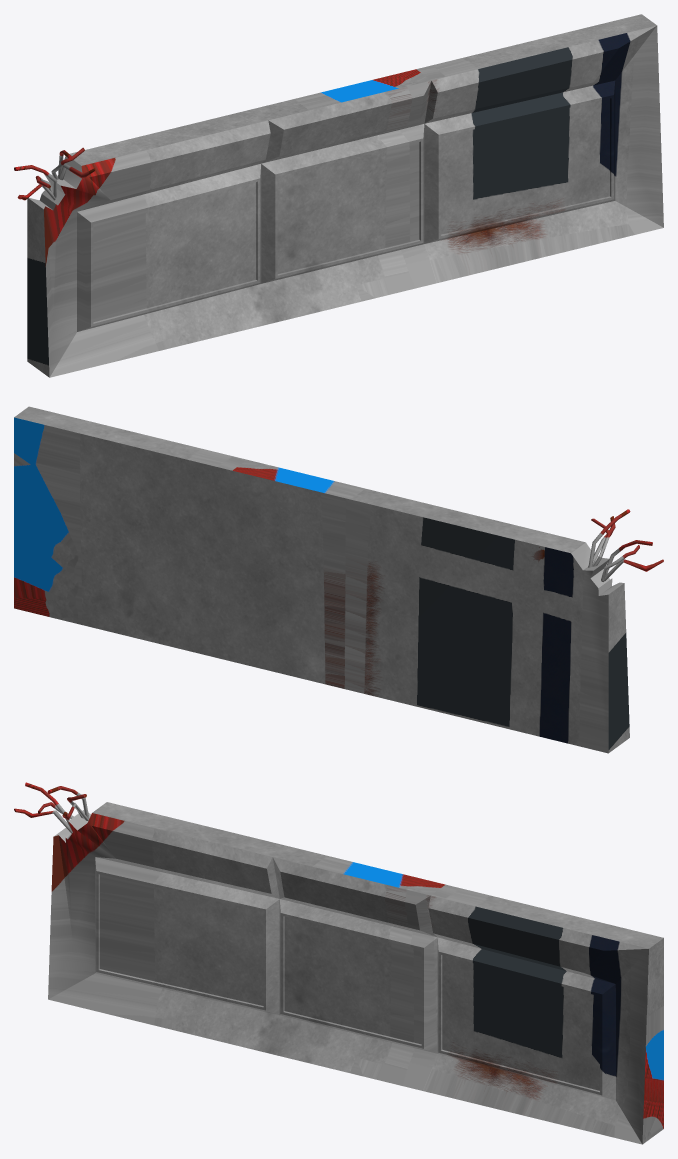
Rendered from Score_Board(Sclaed).fbx.
3 renders of one model, top to bottom at view 1: azimuth 30°, elevation 25°; view 2: azimuth 150°, elevation 25°; view 3: azimuth 330°, elevation 25°, orthographic. The views are drawn at different scales.
Visible parts, largest first — view 1: Scoreboard_V3; view 2: Scoreboard_V3; view 3: Scoreboard_V3.
Part boxes in pixels (x1,y1,x2,y2): Scoreboard_V3: [14, 14, 663, 377]; Scoreboard_V3: [14, 406, 663, 753]; Scoreboard_V3: [14, 782, 663, 1144].
Bounding box in the file's own units: 1748 × 583 × 170.
